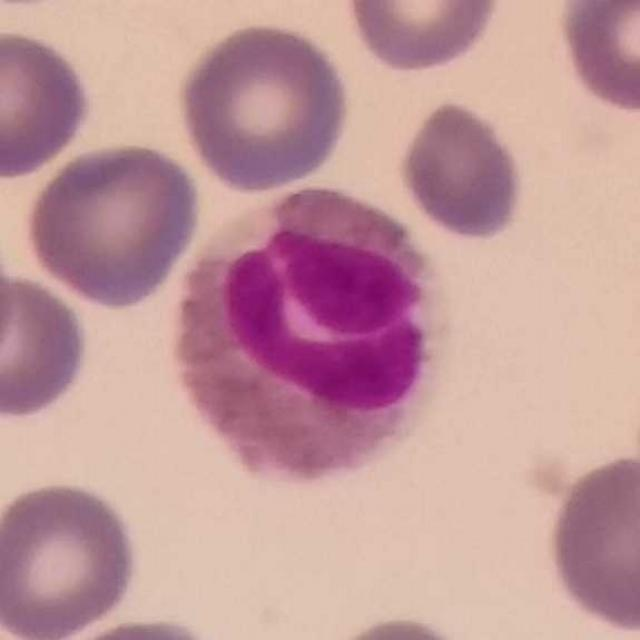Eosinophil: (172, 188, 448, 482)
RBC: (172, 17, 354, 195), (20, 137, 206, 310), (0, 475, 142, 639), (395, 96, 528, 245), (541, 448, 640, 638), (0, 23, 96, 182), (1, 267, 95, 425), (340, 0, 507, 76), (553, 0, 640, 119), (300, 610, 500, 640), (42, 613, 240, 640)
